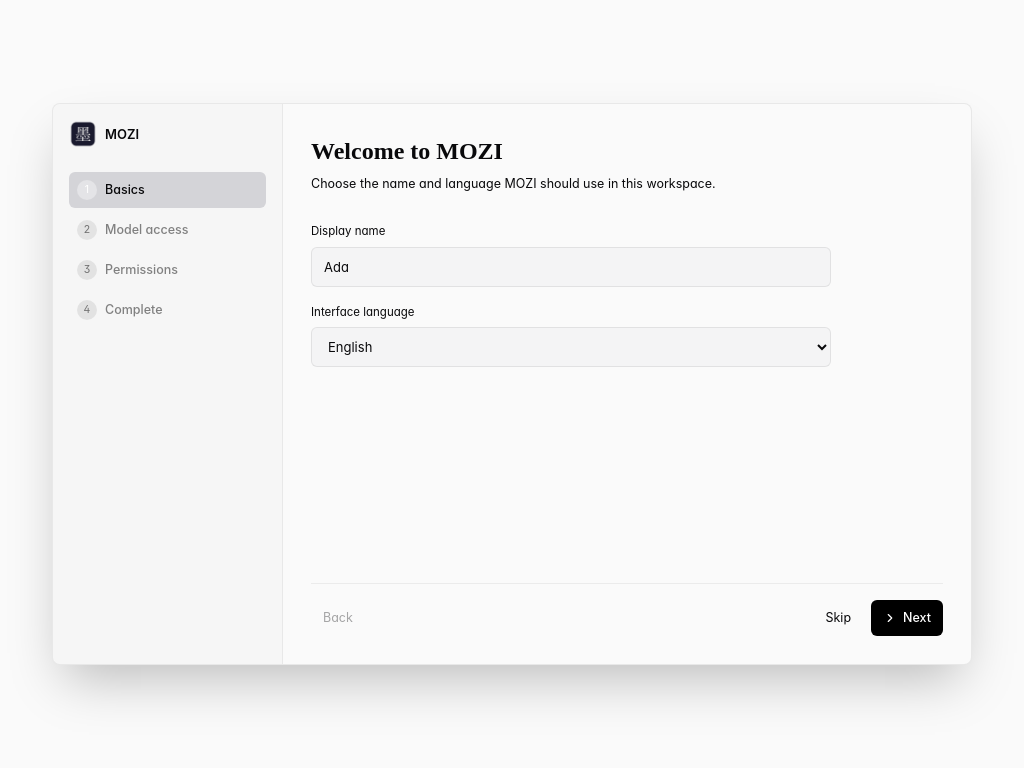
Test: OnboardingWizard › does not test or assign a provider with no entitled models
Expected: the field showing "Ada" is shown, [311,247,831,287]
What coordinates should you click on to do the following:
click the button "Next"
I would click on:
 (907, 618)
Its box is [871,600,943,636].
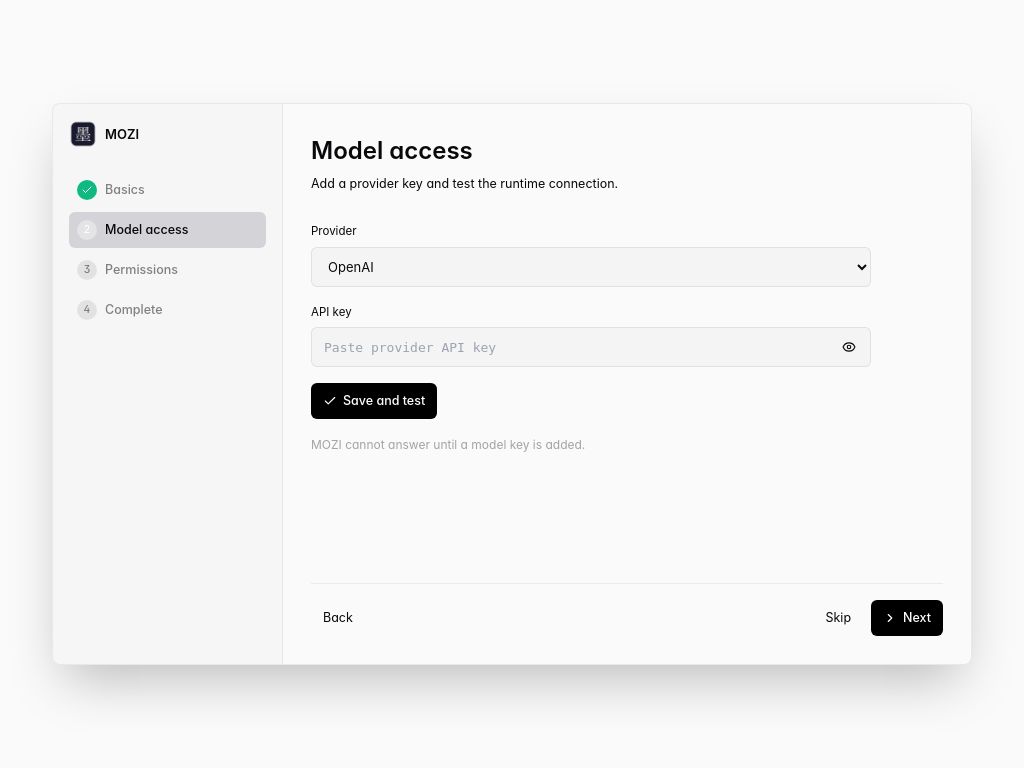
What coordinates should you click on to do the following:
click the button "Save and test"
I would click on:
 (374, 401)
Its box is [311,383,437,419].
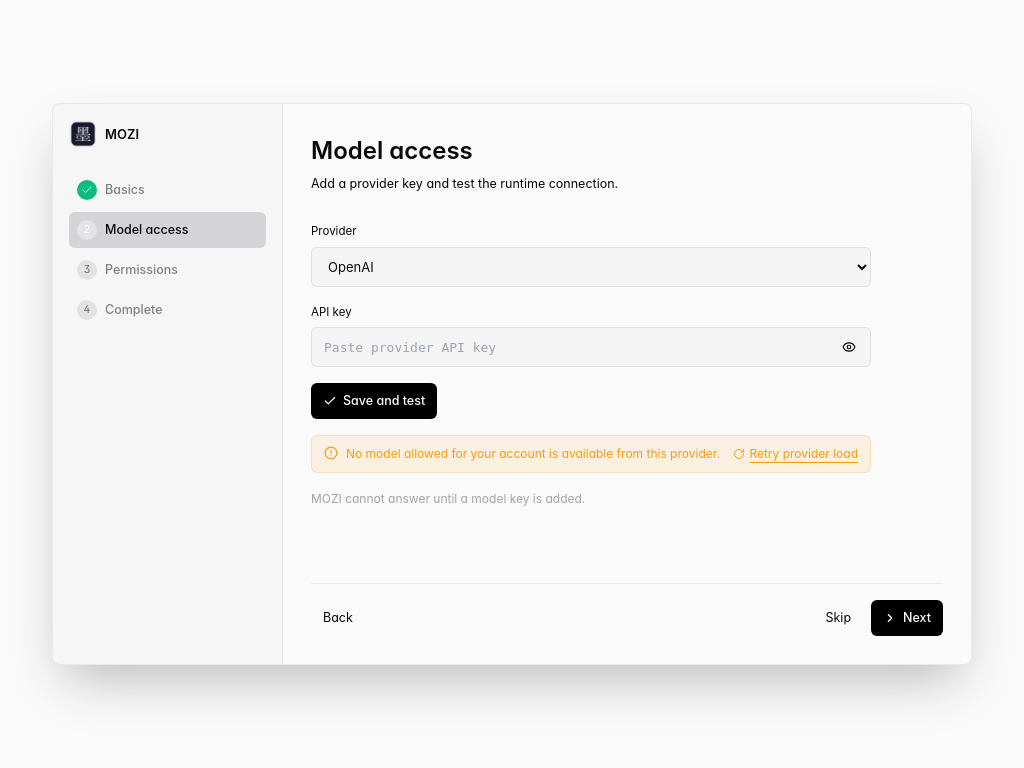
Result: the text "No model allowed for your account is available from this provider." is shown at [346,444,725,464]
